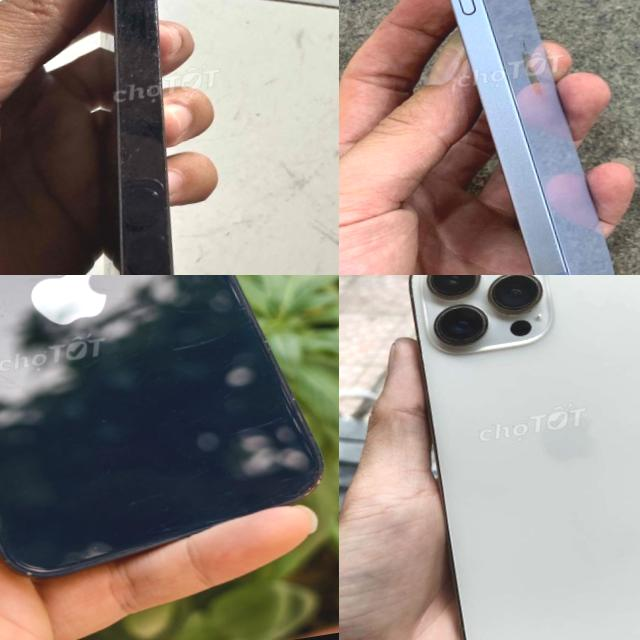gen_12_13: (0, 275, 334, 603), (400, 275, 640, 640)
gen_14: (17, 0, 273, 275), (398, 0, 632, 275)
scratch: (111, 124, 172, 200), (91, 0, 172, 39)
